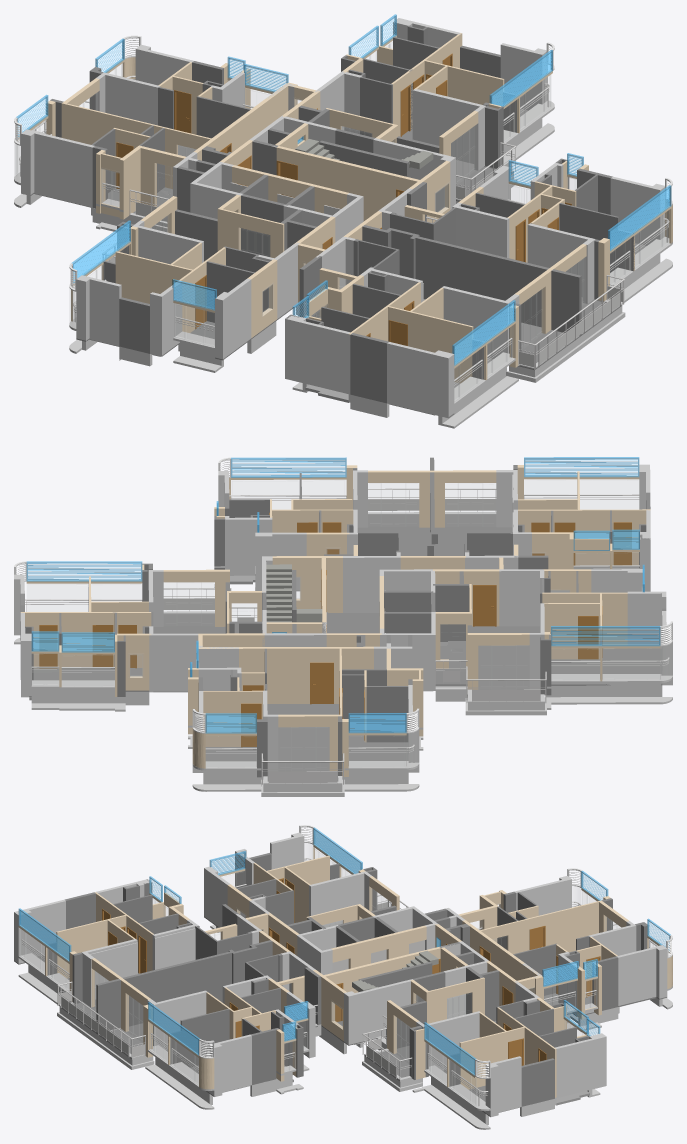
The picture shows the model from 3 angles, top to bottom: view 1: azimuth 30°, elevation 25°; view 2: azimuth 150°, elevation 25°; view 3: azimuth 270°, elevation 25°; orthographic projection. The views are drawn at different scales.
Parts seen in each view (by area): view 1: 基本墙:砌体墙-200mm:838179, HW-L形柱:9F-Z0-11-L形-1:784229, HW-L形柱:9F-Z0-26-L形-2:784259, HW-L形柱:9F-Z0-25-L形-2:784257, 基本墙:轻质隔墙-200mm:837979, HW-L形柱:9F-Z0-15-L形-2:784237, 楼板:常规楼板 - 50mm:837142, 楼板:现浇 - 100mm:783905, 基本墙:轻质隔墙-100mm:837943, HW-L形柱:9F-Z0-5-L形-2:784217, 基本墙:轻质隔墙-100mm:837931, HW-L形柱:9F-Z0-18-L形-3:784243 (+82 smaller); view 2: 楼板:常规楼板 - 50mm:837142, 基本墙:轻质隔墙-200mm:838018, 基本墙:轻质隔墙-100mm:837963, 基本墙:轻质隔墙-100mm:837954, 楼板:现浇 - 100mm:783905, 楼板:现浇 - 100mm:783993, HW-L形柱:9F-Z0-1-L形-2:784209, 基本墙:现浇墙-200mm 2:838012, 基本墙:现浇墙-200mm:838011, HW-L形柱:9F-Z0-28-L形-2:784263, 百叶风口 4 - 角度可变:BY5410:838148, 百叶风口 4 - 角度可变:BY5410:838142 (+81 smaller); view 3: 基本墙:砌体墙-200mm:838179, 基本墙:轻质隔墙-100mm:837943, HW-L形柱:9F-Z0-13-L形-2:784233, HW-L形柱:9F-Z0-21-L形-3:784249, HW-L形柱:9F-Z0-9-L形-1:784225, 楼板:现浇 - 100mm:783905, 楼板:常规楼板 - 50mm:837142, HW-L形柱:9F-Z0-26-L形-2:784259, HW-L形柱:9F-Z0-16-L形-1:784239, HW-L形柱:9F-Z0-24-L形-3:784255, 基本墙:轻质隔墙-100mm:838175, 楼板:现浇 - 100mm:783993 (+77 smaller).
Boxes of the visible parts, x1,y1,x2,y2 form: 基本墙:砌体墙-200mm:838179: [415, 236, 549, 327]; HW-L形柱:9F-Z0-11-L形-1:784229: [21, 129, 94, 207]; HW-L形柱:9F-Z0-26-L形-2:784259: [387, 342, 454, 418]; HW-L形柱:9F-Z0-25-L形-2:784257: [285, 315, 350, 394]; 基本墙:轻质隔墙-200mm:837979: [276, 146, 419, 221]; HW-L形柱:9F-Z0-15-L形-2:784237: [412, 89, 486, 170]; 楼板:常规楼板 - 50mm:837142: [30, 109, 646, 417]; 楼板:现浇 - 100mm:783905: [14, 123, 672, 428]; 基本墙:轻质隔墙-100mm:837943: [65, 103, 211, 189]; HW-L形柱:9F-Z0-5-L形-2:784217: [442, 286, 519, 358]; 基本墙:轻质隔墙-100mm:837931: [388, 306, 473, 383]; HW-L形柱:9F-Z0-18-L形-3:784243: [76, 275, 121, 346]; 楼板:常规楼板 - 50mm:837142: [29, 514, 662, 781]; 基本墙:轻质隔墙-200mm:838018: [239, 646, 373, 703]; 基本墙:轻质隔墙-100mm:837963: [20, 612, 151, 668]; 基本墙:轻质隔墙-100mm:837954: [518, 509, 650, 565]; 楼板:现浇 - 100mm:783905: [14, 584, 672, 791]; 楼板:现浇 - 100mm:783993: [31, 566, 672, 770]; HW-L形柱:9F-Z0-1-L形-2:784209: [149, 626, 198, 691]; 基本墙:现浇墙-200mm 2:838012: [368, 470, 496, 527]; 基本墙:现浇墙-200mm:838011: [272, 556, 342, 612]; HW-L形柱:9F-Z0-28-L形-2:784263: [499, 569, 544, 626]; 百叶风口 4 - 角度可变:BY5410:838148: [26, 561, 142, 581]; 百叶风口 4 - 角度可变:BY5410:838142: [231, 457, 346, 477]; 基本墙:砌体墙-200mm:838179: [123, 951, 231, 1026]; 基本墙:轻质隔墙-100mm:837943: [480, 901, 598, 953]; HW-L形柱:9F-Z0-13-L形-2:784233: [554, 1033, 606, 1098]; HW-L形柱:9F-Z0-21-L形-3:784249: [344, 979, 412, 1044]; HW-L形柱:9F-Z0-9-L形-1:784225: [617, 945, 667, 1005]; 楼板:现浇 - 100mm:783905: [18, 925, 672, 1129]; 楼板:常规楼板 - 50mm:837142: [14, 916, 667, 1116]; HW-L形柱:9F-Z0-26-L形-2:784259: [14, 900, 65, 963]; HW-L形柱:9F-Z0-16-L形-1:784239: [309, 871, 371, 927]; HW-L形柱:9F-Z0-24-L形-3:784255: [209, 1034, 251, 1096]; 基本墙:轻质隔墙-100mm:838175: [459, 1027, 524, 1089]; 楼板:现浇 - 100mm:783993: [18, 954, 672, 1111].
Size of what is drawn, in the model's own units: 29.87 by 6.2 by 35.14.
